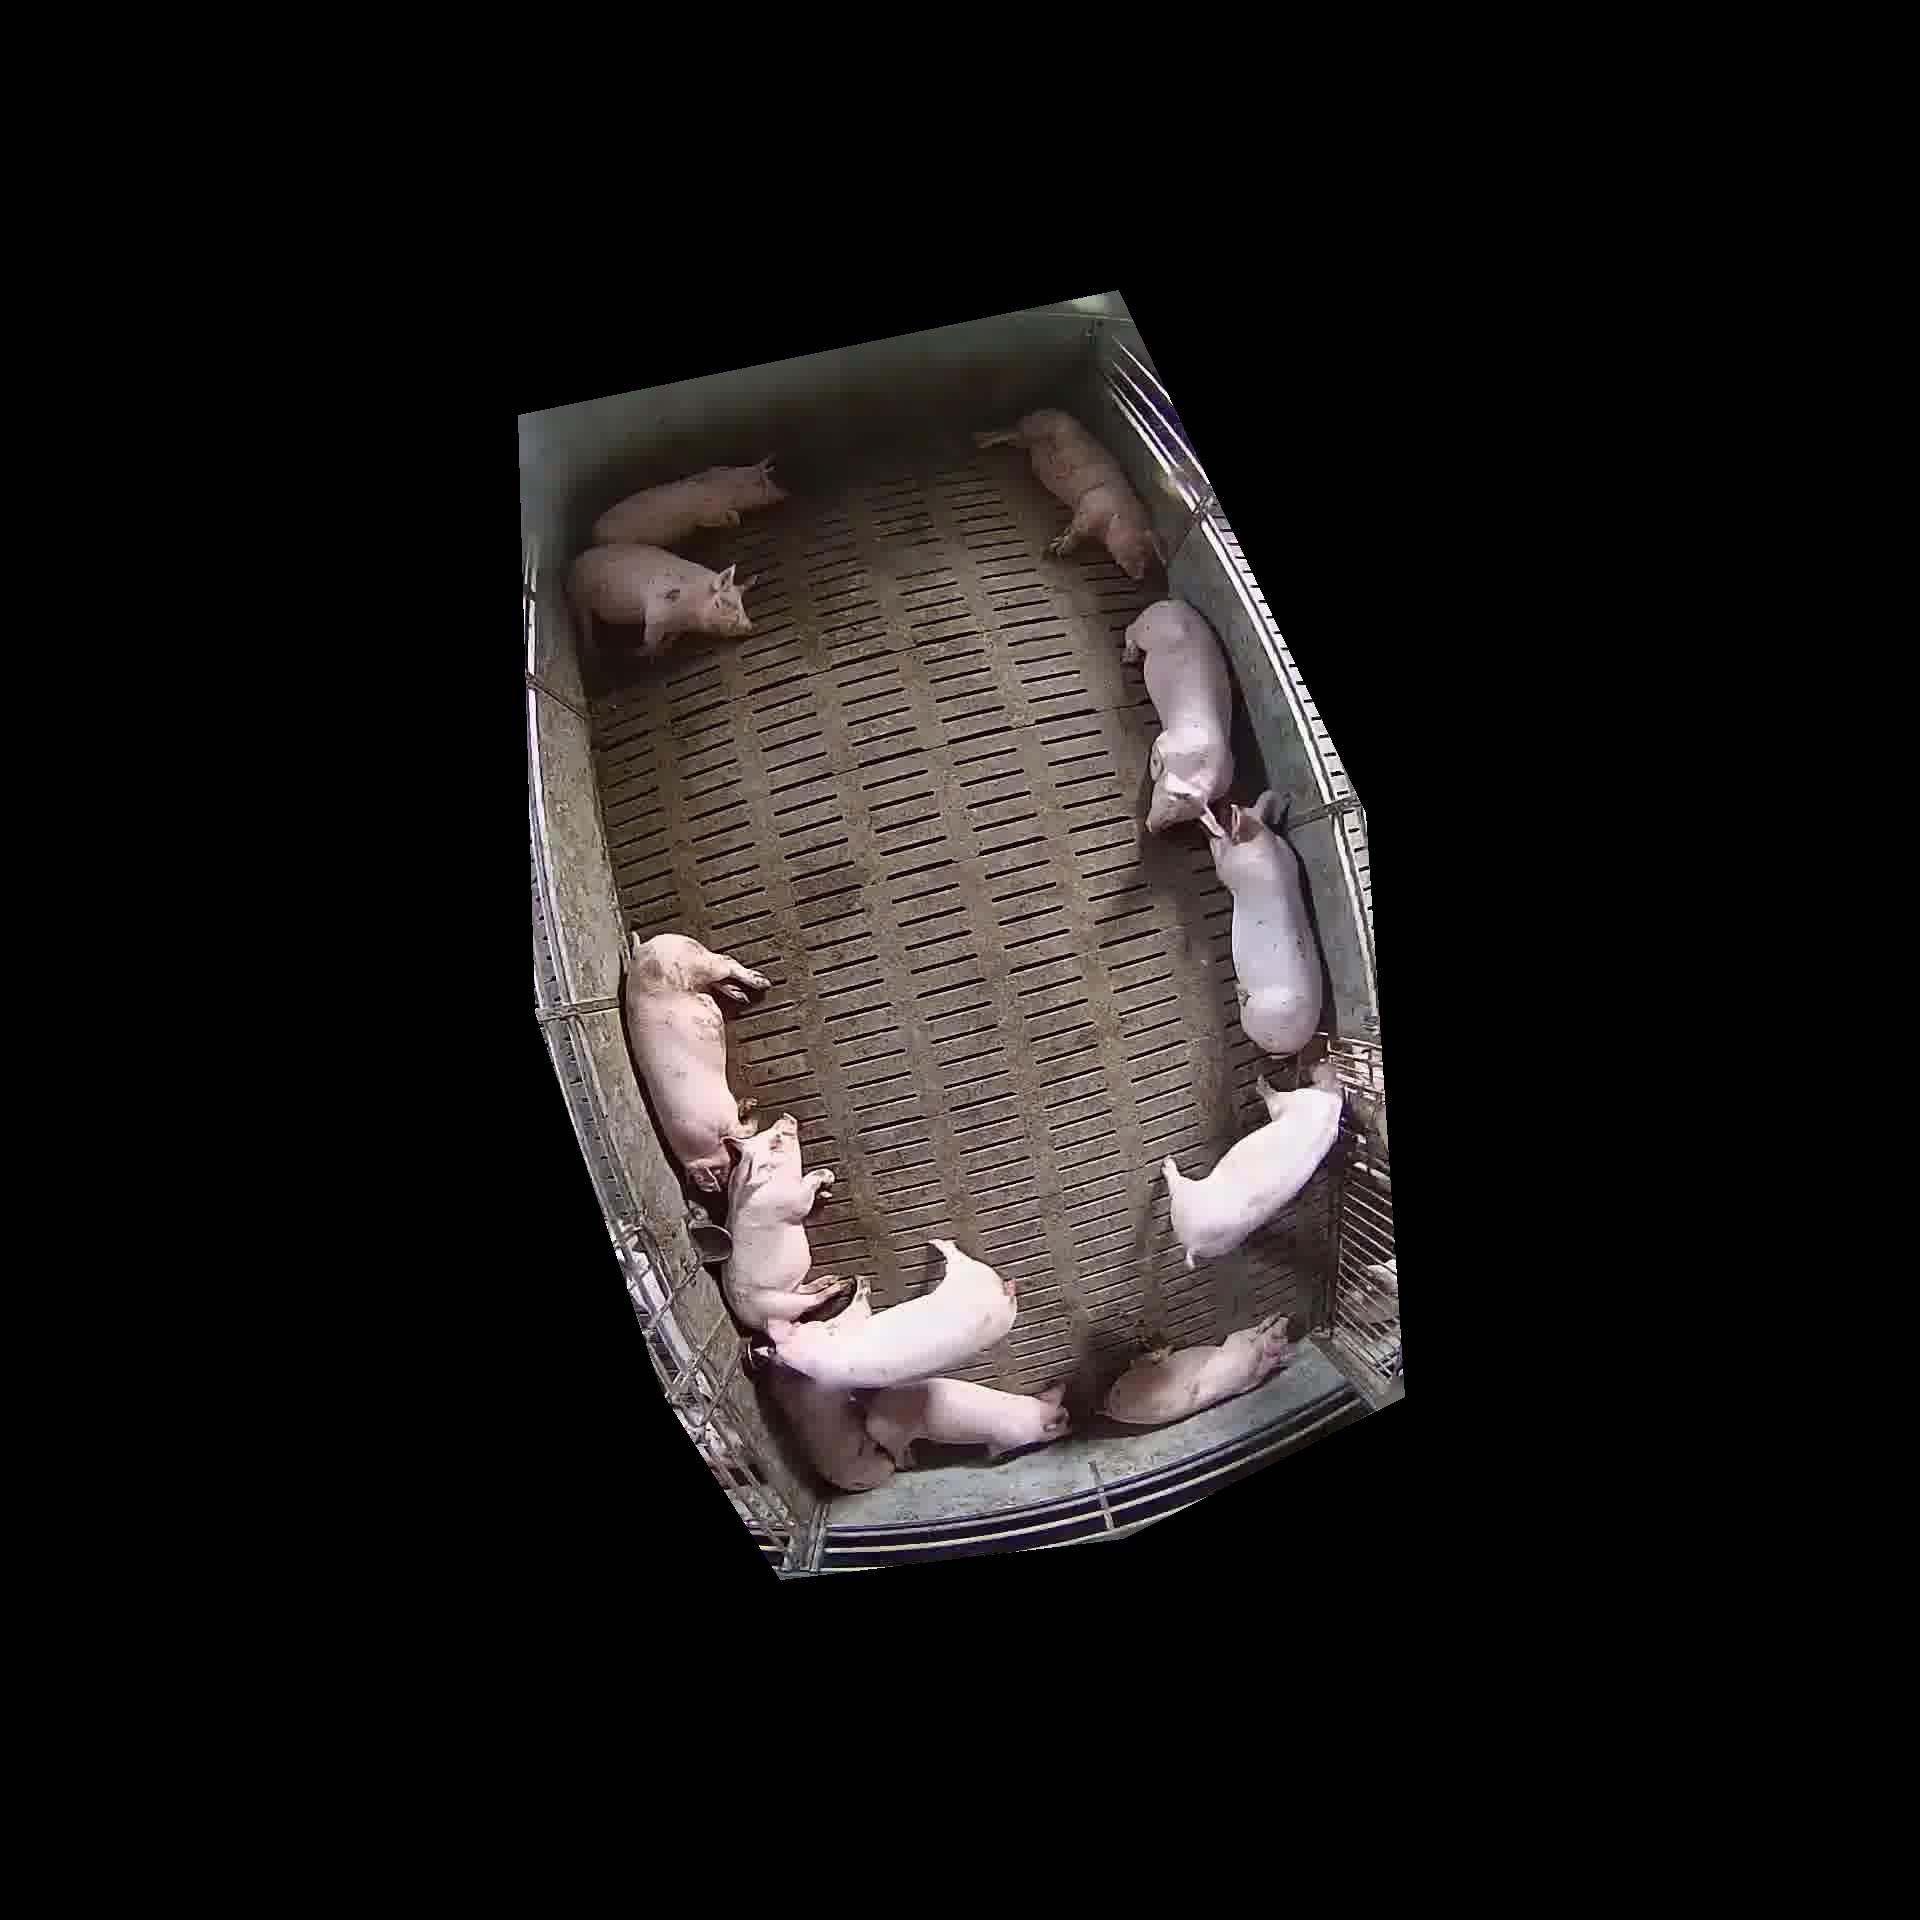pig: (754, 1240, 1016, 1389), (624, 934, 767, 1190), (1162, 1080, 1342, 1266), (1201, 789, 1322, 1053), (974, 410, 1160, 578), (723, 1113, 847, 1327), (1125, 600, 1233, 832), (570, 543, 751, 656), (1104, 1315, 1291, 1424), (865, 1377, 1067, 1466), (763, 1363, 898, 1495), (593, 455, 784, 547)
